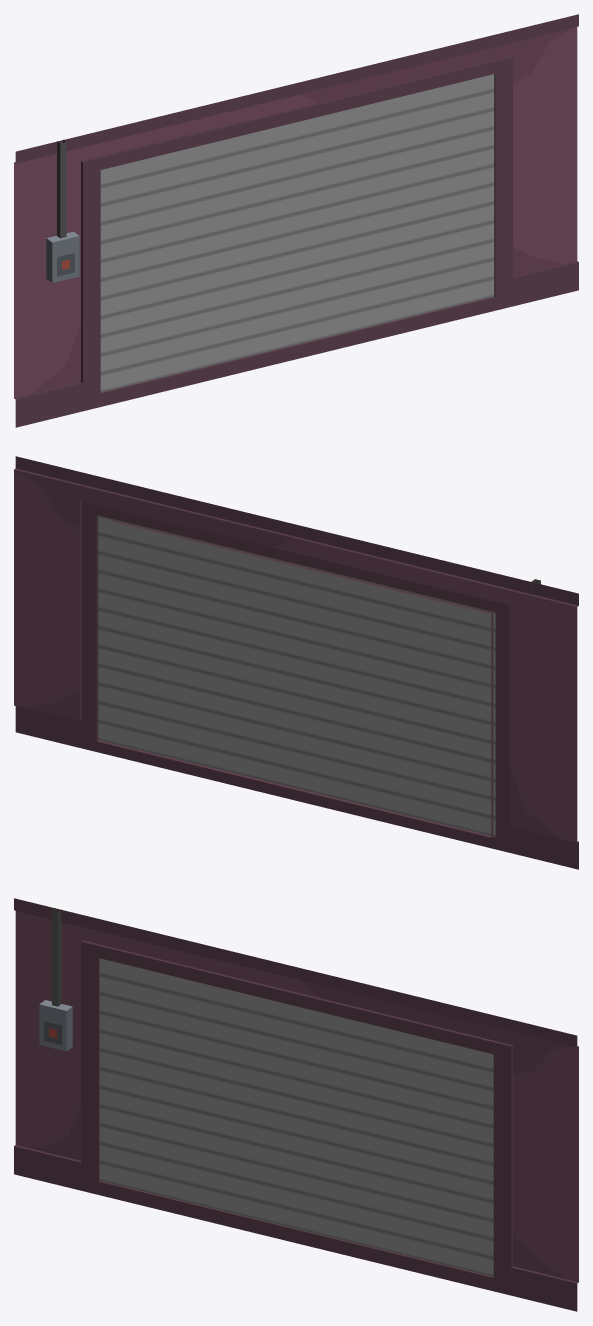
File: AI_Env_Wall_Pink_GarageDoor.fbx
The picture shows the model from 3 angles, top to bottom: view 1: azimuth 30°, elevation 25°; view 2: azimuth 150°, elevation 25°; view 3: azimuth 330°, elevation 25°; orthographic projection.
Visible parts, largest first — view 1: AI_Env_Wall_Pink_GarageDoor; view 2: AI_Env_Wall_Pink_GarageDoor; view 3: AI_Env_Wall_Pink_GarageDoor.
Boxes of the visible parts, bbox=[...] form: AI_Env_Wall_Pink_GarageDoor: bbox=[14, 14, 578, 427]; AI_Env_Wall_Pink_GarageDoor: bbox=[14, 456, 578, 869]; AI_Env_Wall_Pink_GarageDoor: bbox=[14, 898, 578, 1311].
Size of the model in its own units: 10 by 4.69 by 0.2623.
